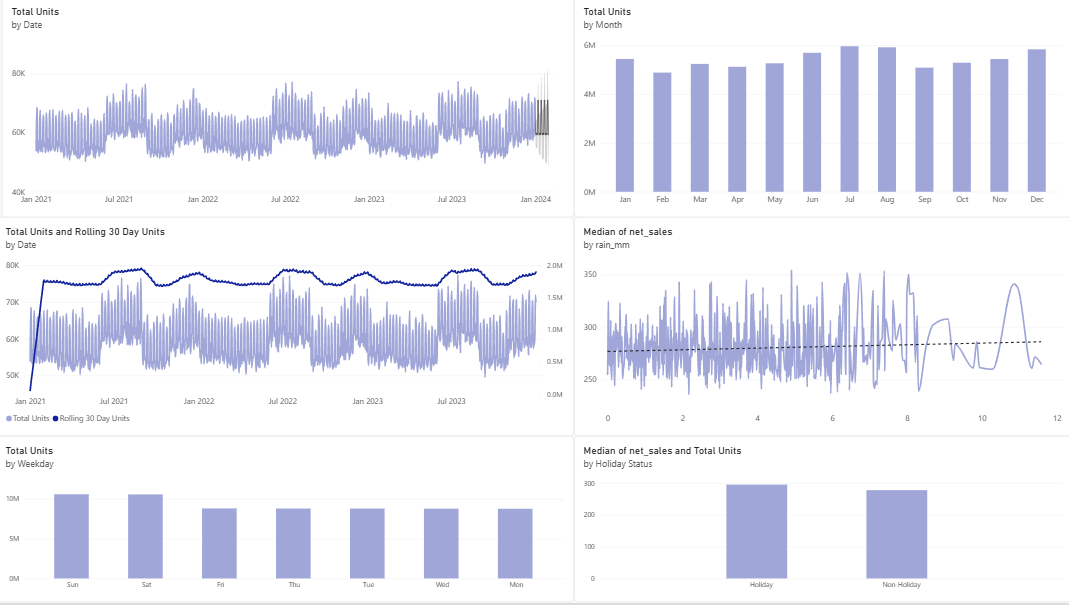

What the dashboard file says about the page in this screenshot:
{"tool":"powerbi","page":{"name":"06 Demand & Forecasting","canvas":[1920,1080],"ordinal":5},"visuals":[{"type":"lineChart","fields":{"Category":["DimDate.Date"],"Y":["_Measures.Total Units"]},"box":[10.7,0,1020.7,392.6],"z":0},{"type":"lineChart","fields":{"Category":["DimDate.Date"],"Y":["_Measures.Total Units"],"Y2":["_Measures.Rolling 30 Day Units"]},"box":[0,392.6,1031.4,390.8],"z":1000},{"type":"columnChart","fields":{"Category":["DimDate.Month"],"Y":["_Measures.Total Units"]},"box":[1031.4,0,886.8,392.6],"z":2000},{"type":"clusteredColumnChart","fields":{"Category":["DimDate.Weekday"],"Y":["_Measures.Total Units"]},"box":[0,783.3,1031.4,296.2],"z":3000},{"type":"clusteredColumnChart","fields":{"Category":["FactSales.Holiday Status"],"Y":["Median(FactSales.net_sales)"]},"box":[1031.4,783.3,888.6,296.2],"z":4000},{"type":"lineChart","fields":{"Category":["FactSales.rain_mm"],"Y":["Median(FactSales.net_sales)"]},"box":[1031.4,392.6,888.6,390.8],"z":5000}]}

Visuals, with their boxes in screenshot pixels (x1, y1, x2, y2), scaled from the page's 1920x1080 canvas onto the 1069x605 screenshot:
lineChart - DimDate.Date x _Measures.Total Units: (left=6, top=0, right=574, bottom=220)
lineChart - DimDate.Date x _Measures.Total Units: (left=0, top=220, right=574, bottom=439)
columnChart - DimDate.Month x _Measures.Total Units: (left=574, top=0, right=1068, bottom=220)
clusteredColumnChart - DimDate.Weekday x _Measures.Total Units: (left=0, top=439, right=574, bottom=604)
clusteredColumnChart - FactSales.Holiday Status x Median(FactSales.net_sales): (left=574, top=439, right=1068, bottom=604)
lineChart - FactSales.rain_mm x Median(FactSales.net_sales): (left=574, top=220, right=1068, bottom=439)
